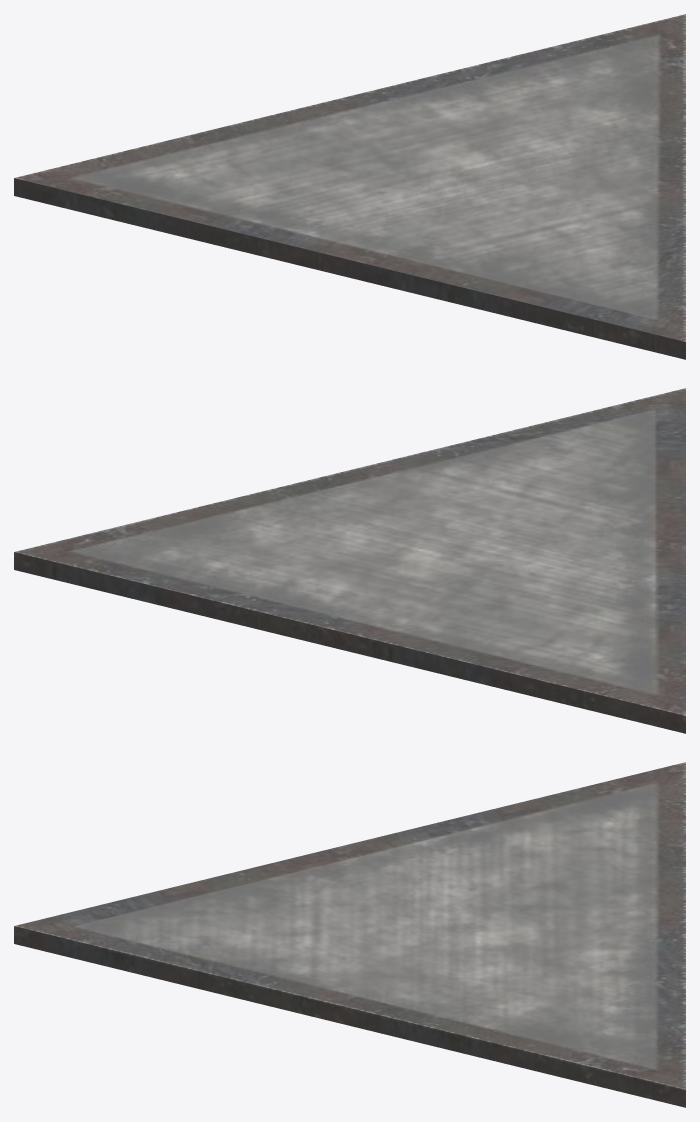
File: armored_foundation_triangle_low_textured.glb
3 renders of one model, top to bottom at view 1: azimuth 30°, elevation 25°; view 2: azimuth 150°, elevation 25°; view 3: azimuth 270°, elevation 25°, orthographic.
Parts seen in each view (by area): view 1: Circle.001; view 2: Circle.001; view 3: Circle.001.
Part boxes in pixels (x1=…): Circle.001: x1=14, y1=14, x2=685, y2=359; Circle.001: x1=14, y1=388, x2=685, y2=733; Circle.001: x1=14, y1=762, x2=685, y2=1107.
Bounding box in the file's own units: 2 × 0.0508 × 1.73.
Materials: 1 (1 with a texture image).
